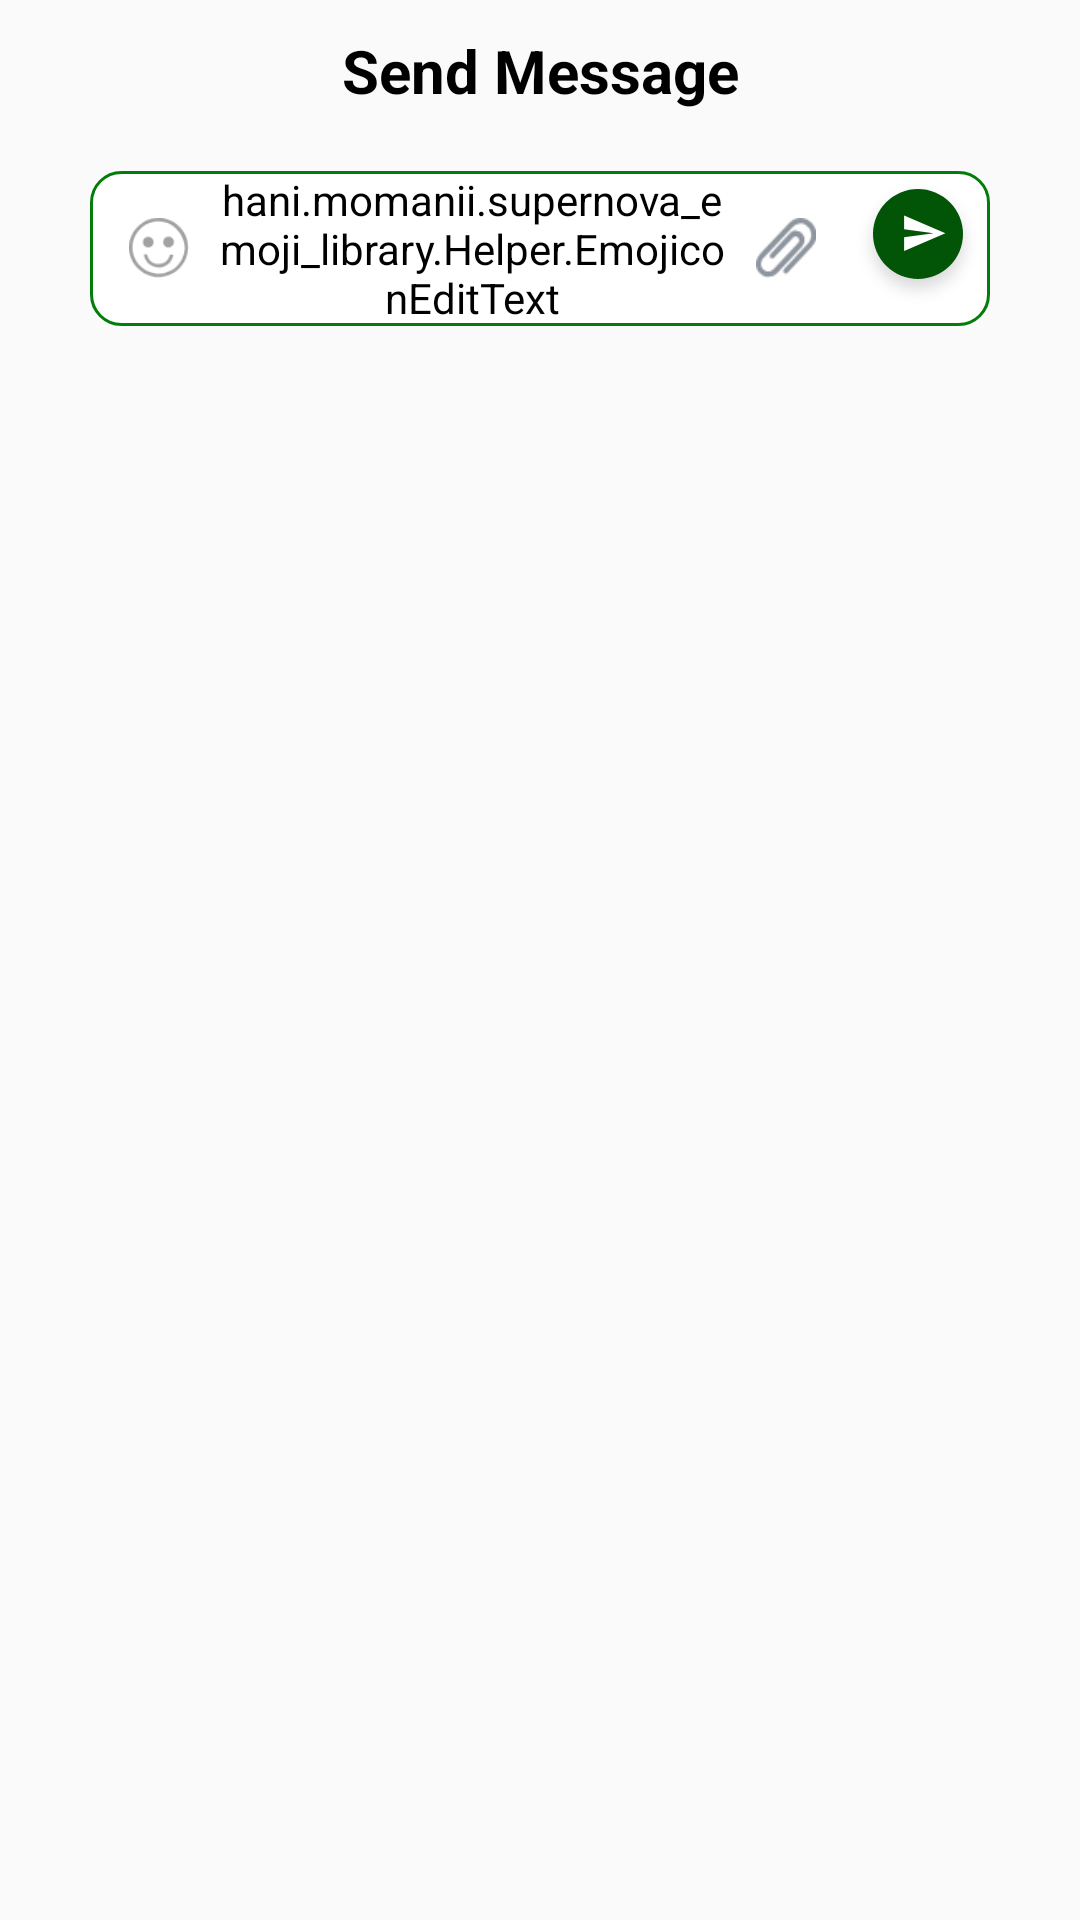

Point at icon controls on the screen. Image size 1080 × 1920, points as (x,y).
attach: (786,248)
